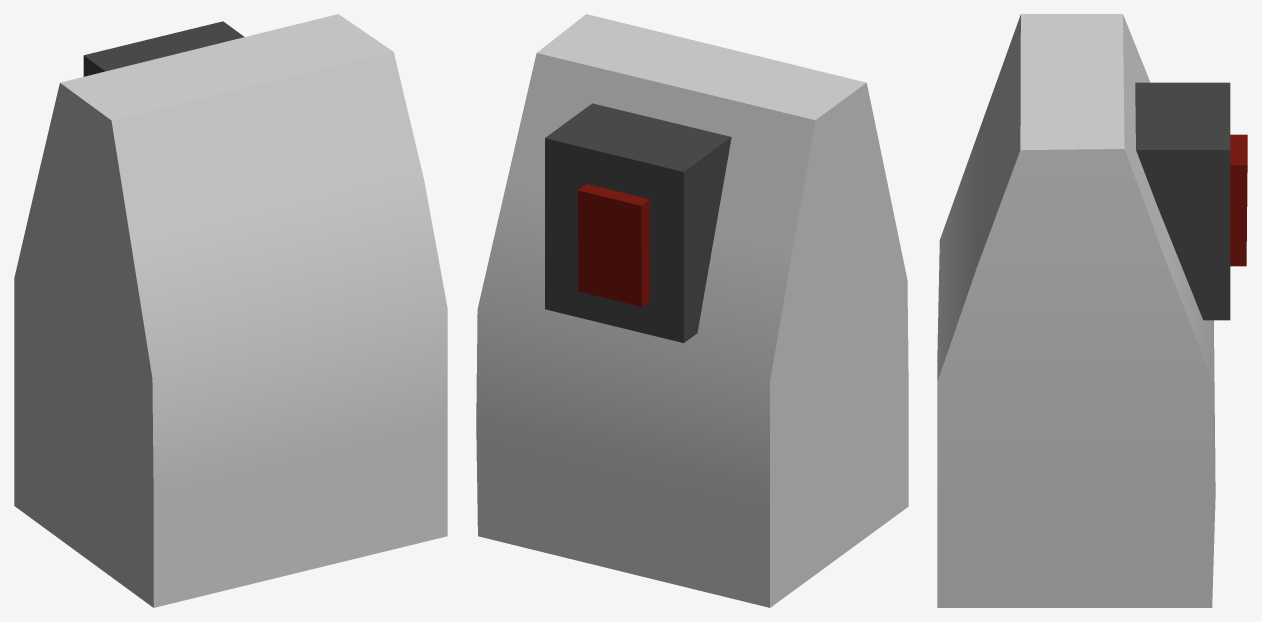
Rendered from Button.fbx.
3 renders of one model, left to right at view 1: azimuth 30°, elevation 25°; view 2: azimuth 150°, elevation 25°; view 3: azimuth 270°, elevation 25°, orthographic.
Parts seen in each view (by area): view 1: Box003, Box004; view 2: Box003, Box004, Box005; view 3: Box003, Box004, Box005.
Boxes of the visible parts, x1,y1,x2,y2 form: Box003: [14, 14, 447, 607]; Box004: [83, 21, 244, 76]; Box003: [476, 14, 908, 607]; Box004: [545, 103, 731, 342]; Box005: [578, 184, 649, 306]; Box003: [937, 14, 1215, 607]; Box004: [1135, 82, 1230, 320]; Box005: [1230, 134, 1247, 266].
Size of the model in its own units: 29.82 by 44.27 by 27.53.
